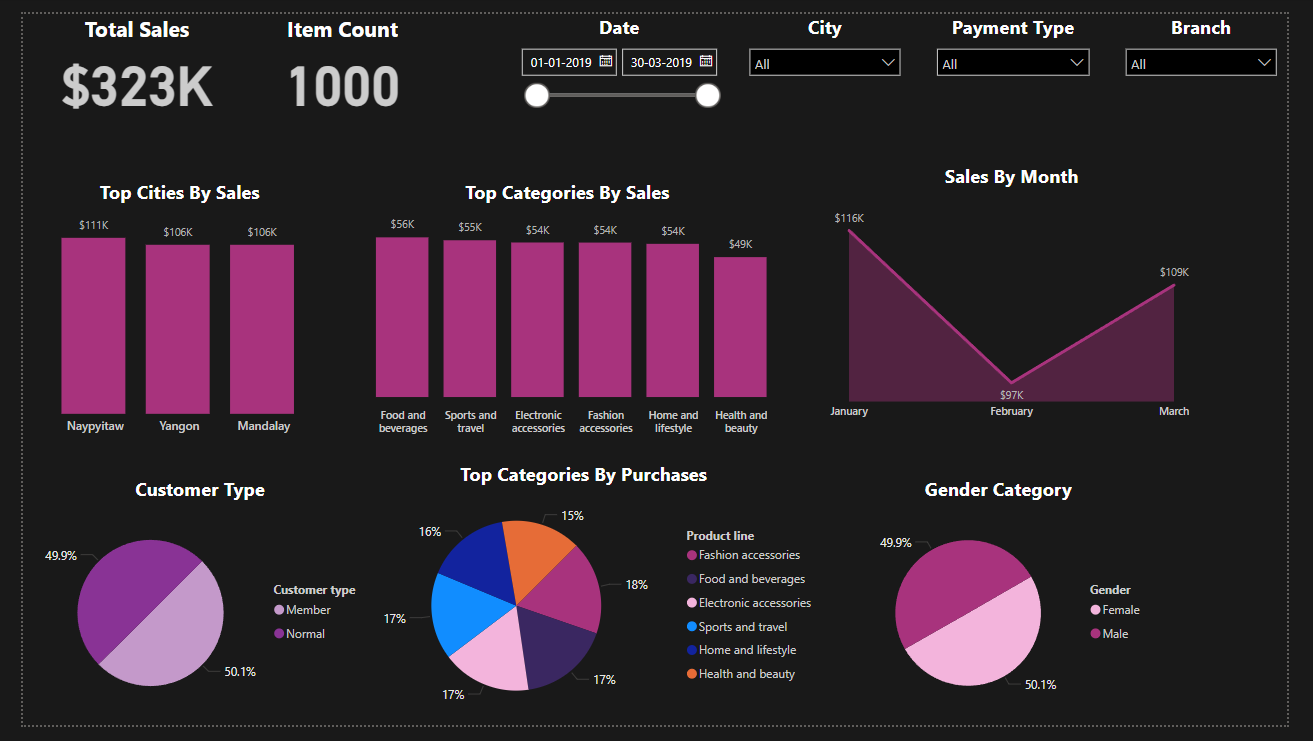

Layout of this report page (visuals, bound fields, positions):
{"tool":"powerbi","page":{"name":"Page 1","canvas":[1280,720],"ordinal":0},"visuals":[{"type":"pieChart","title":"Customer Type","fields":{"Category":["supermarket_sales - Sheet1.Customer type"],"Y":["CountNonNull(supermarket_sales - Sheet1.Invoice ID)"]},"box":[0,468,358.7,252],"z":0},{"type":"slicer","title":"Branch","fields":{"Values":["supermarket_sales - Sheet1.Branch"]},"box":[1106.7,0,173.3,69.3],"z":1000},{"type":"slicer","title":"City","fields":{"Values":["supermarket_sales - Sheet1.City"]},"box":[725.3,0,173.3,69.3],"z":2000},{"type":"columnChart","title":"Top Cities By Sales","fields":{"Y":["Sum(supermarket_sales - Sheet1.Total)"],"Category":["supermarket_sales - Sheet1.City"]},"box":[0,166.7,317.3,268],"z":3000},{"type":"columnChart","title":"Top Categories By Sales","fields":{"Y":["Sum(supermarket_sales - Sheet1.Total)"],"Category":["supermarket_sales - Sheet1.Product line"]},"box":[314.7,166.7,472,268],"z":4000},{"type":"pieChart","title":"Top Categories By Purchases","fields":{"Y":["CountNonNull(supermarket_sales - Sheet1.Invoice ID)"],"Category":["supermarket_sales - Sheet1.Product line"]},"box":[322.5,452.8,489.9,267.6],"z":5000},{"type":"slicer","title":"Payment Type","fields":{"Values":["supermarket_sales - Sheet1.Payment"]},"box":[914.7,0,174.7,69.3],"z":6000},{"type":"pieChart","title":"Gender Category","fields":{"Y":["CountNonNull(supermarket_sales - Sheet1.Invoice ID)"],"Category":["supermarket_sales - Sheet1.Gender"]},"box":[829.3,468,317.3,252],"z":7000},{"type":"card","title":"Total Sales","fields":{"Values":["Sum(supermarket_sales - Sheet1.Total)"]},"box":[0,0,230.7,104],"z":8000},{"type":"card","title":"Item Count","fields":{"Values":["CountNonNull(supermarket_sales - Sheet1.Invoice ID)"]},"box":[220,0,206.7,104],"z":9000},{"type":"slicer","title":"Date","fields":{"Values":["supermarket_sales - Sheet1.Date"]},"box":[492,0,222.7,104],"z":10000},{"type":"areaChart","title":"Sales By Month","fields":{"Category":["supermarket_sales - Sheet1.Date.Variation.Date Hierarchy.Month"],"Y":["Sum(supermarket_sales - Sheet1.Total)"]},"box":[765.5,150.4,470.8,269],"z":10001}]}

Visuals, with their boxes in screenshot pixels (x1, y1, x2, y2), scaled from the page's 1280x720 canvas onto the 1313x741 screenshot:
"Customer Type" pieChart: [left=0, top=482, right=368, bottom=740]
"Branch" slicer: [left=1135, top=0, right=1312, bottom=71]
"City" slicer: [left=744, top=0, right=922, bottom=71]
"Top Cities By Sales" columnChart: [left=0, top=172, right=325, bottom=447]
"Top Categories By Sales" columnChart: [left=323, top=172, right=807, bottom=447]
"Top Categories By Purchases" pieChart: [left=331, top=466, right=833, bottom=740]
"Payment Type" slicer: [left=938, top=0, right=1117, bottom=71]
"Gender Category" pieChart: [left=851, top=482, right=1176, bottom=740]
"Total Sales" card: [left=0, top=0, right=237, bottom=107]
"Item Count" card: [left=226, top=0, right=438, bottom=107]
"Date" slicer: [left=505, top=0, right=733, bottom=107]
"Sales By Month" areaChart: [left=785, top=155, right=1268, bottom=432]
